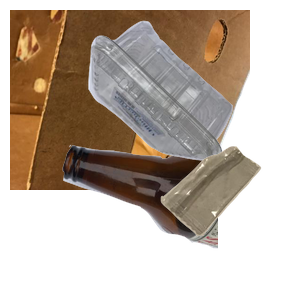cardboard: (10, 10, 250, 190)
glass: (60, 142, 300, 300)
plastic: (86, 18, 300, 171)
trash: (158, 144, 300, 300)
